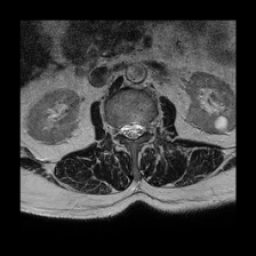CCS_normal: (129, 117, 136, 145)
LFS_normal: (144, 115, 151, 139)
LLS_normal: (136, 117, 144, 141)
RFS_normal: (114, 119, 122, 140)
RLS_normal: (122, 117, 129, 141)
